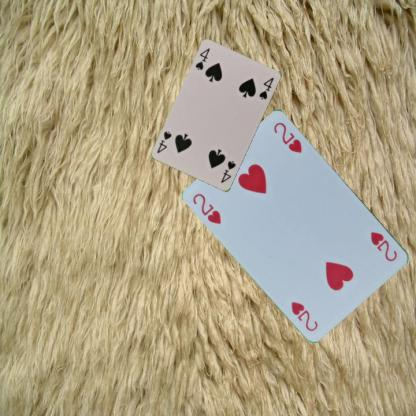2h: (190, 191, 223, 225), (368, 229, 399, 263)
4s: (218, 158, 237, 184), (193, 46, 211, 72)
